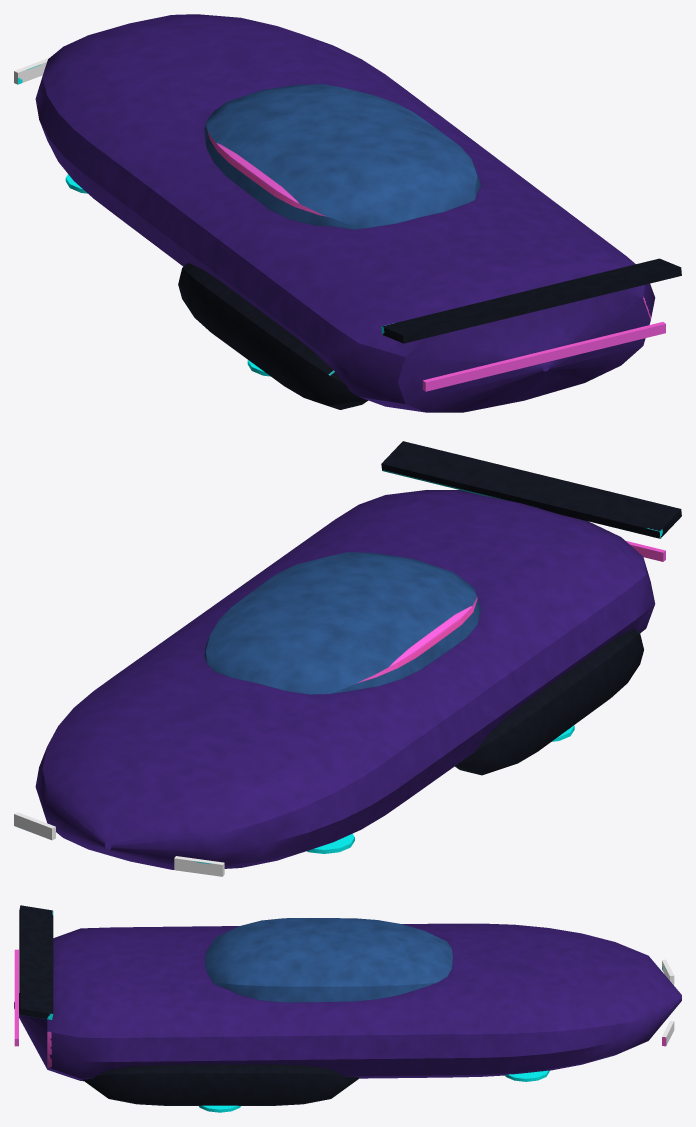
File: hover_car.fbx
The picture shows the model from 3 angles, top to bottom: view 1: azimuth 30°, elevation 25°; view 2: azimuth 150°, elevation 25°; view 3: azimuth 270°, elevation 25°; orthographic projection. The views are drawn at different scales.
Visible parts, largest first — view 1: hover_car, hover_car_glow2; view 2: hover_car; view 3: hover_car, hover_car_glow, hover_car_glow2.
Part boxes in pixels (bbox=[...]): hover_car: bbox=[14, 14, 681, 412]; hover_car_glow2: bbox=[422, 322, 665, 391]; hover_car: bbox=[14, 441, 681, 876]; hover_car: bbox=[14, 905, 681, 1105]; hover_car_glow: bbox=[199, 1070, 549, 1112]; hover_car_glow2: bbox=[14, 949, 18, 1046].
Size of the model in its own units: 534 by 232 by 1200.
Materials: 1 (1 with a texture image).
